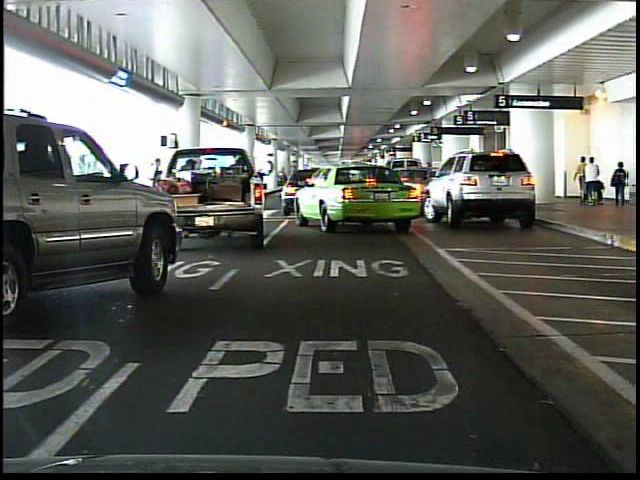person: (144, 155, 171, 219), (608, 159, 633, 207), (583, 153, 602, 209), (575, 156, 588, 205)
